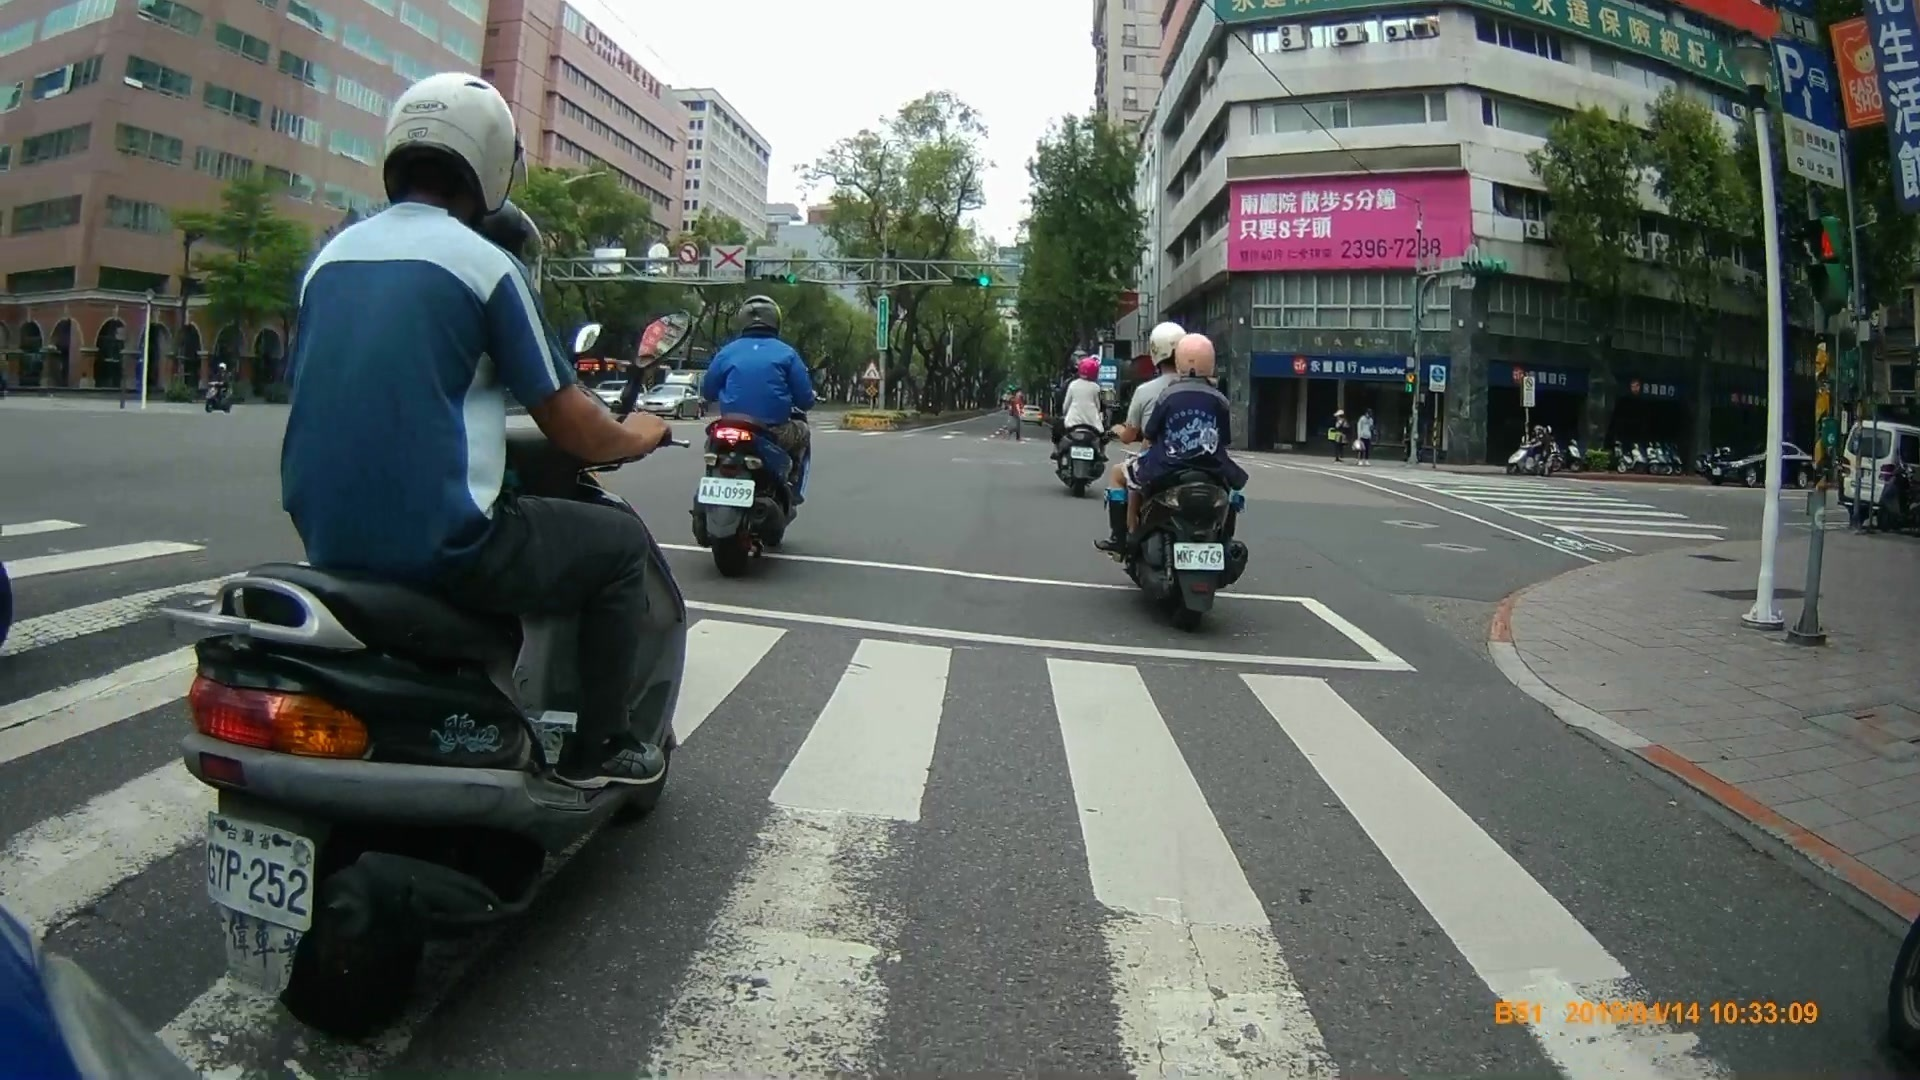License_plate: (203, 815, 316, 931), (699, 470, 764, 509), (1170, 540, 1229, 570)
